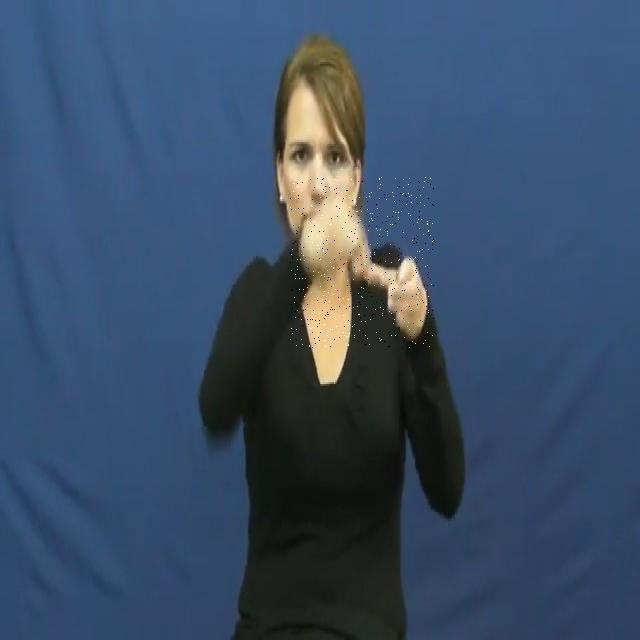lactose: (290, 177, 434, 348)
